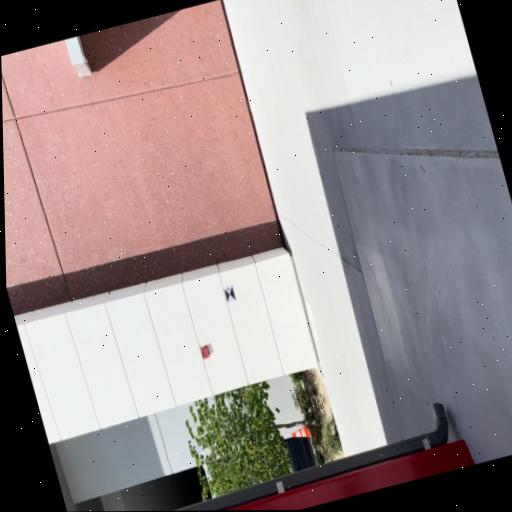target9: (224, 284, 237, 302)
